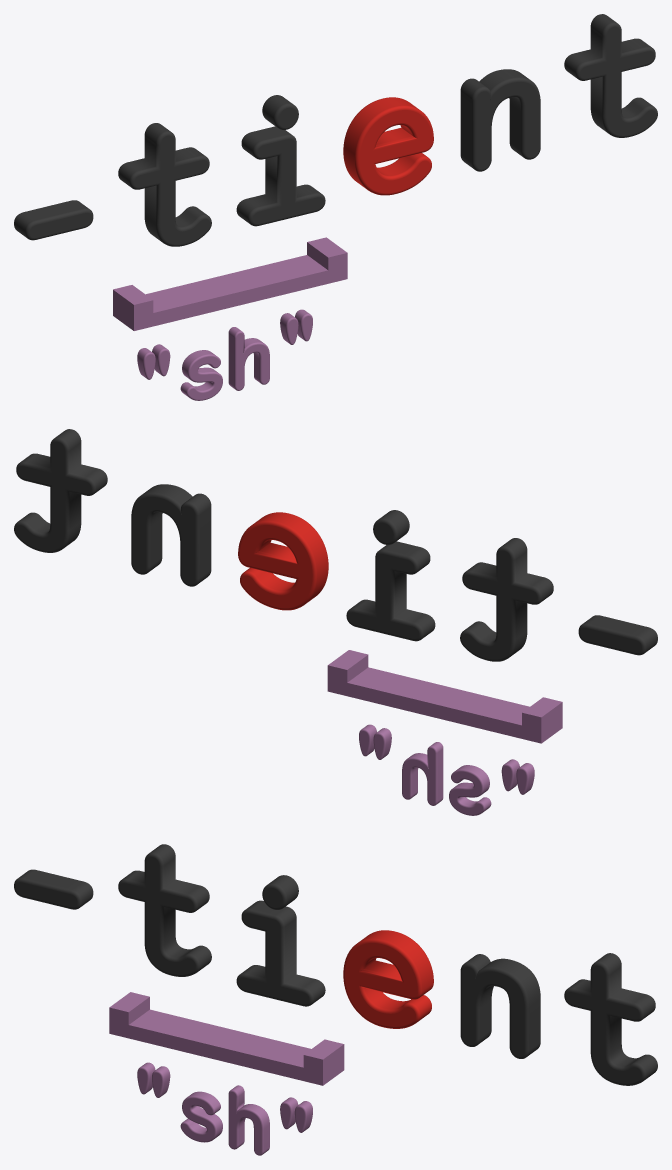
The model's file is -tient.gltf.
3 views of the same model, one above another, from view 1: azimuth 30°, elevation 25°; view 2: azimuth 150°, elevation 25°; view 3: azimuth 330°, elevation 25° (orthographic).
Parts seen in each view (by area): view 1: Cube.000, Text.006, Text.003, Text.004, Text.002, Text, Text.001; view 2: Cube.000, Text.006, Text.003, Text.004, Text.002, Text, Text.001; view 3: Cube.000, Text.006, Text.003, Text.004, Text.002, Text, Text.001.
Part boxes in pixels (<box>): Cube.000: <box>113,237,347,330</box>; Text.006: <box>14,123,211,246</box>; Text.003: <box>343,97,433,195</box>; Text.004: <box>564,14,657,137</box>; Text.002: <box>460,69,540,171</box>; Text: <box>236,95,325,226</box>; Text.001: <box>137,309,312,400</box>; Cube.000: <box>327,650,562,743</box>; Text.006: <box>460,538,657,661</box>; Text.003: <box>238,512,328,610</box>; Text.004: <box>14,429,107,552</box>; Text.002: <box>131,484,211,586</box>; Text: <box>346,510,435,641</box>; Text.001: <box>359,724,534,815</box>; Cube.000: <box>109,992,344,1085</box>; Text.006: <box>14,844,211,976</box>; Text.003: <box>343,930,433,1028</box>; Text.004: <box>564,953,657,1085</box>; Text.002: <box>460,954,540,1058</box>; Text: <box>236,875,325,1006</box>; Text.001: <box>137,1062,312,1155</box>.
Size of the model in its own units: 3.29 by 1.39 by 0.1906.
